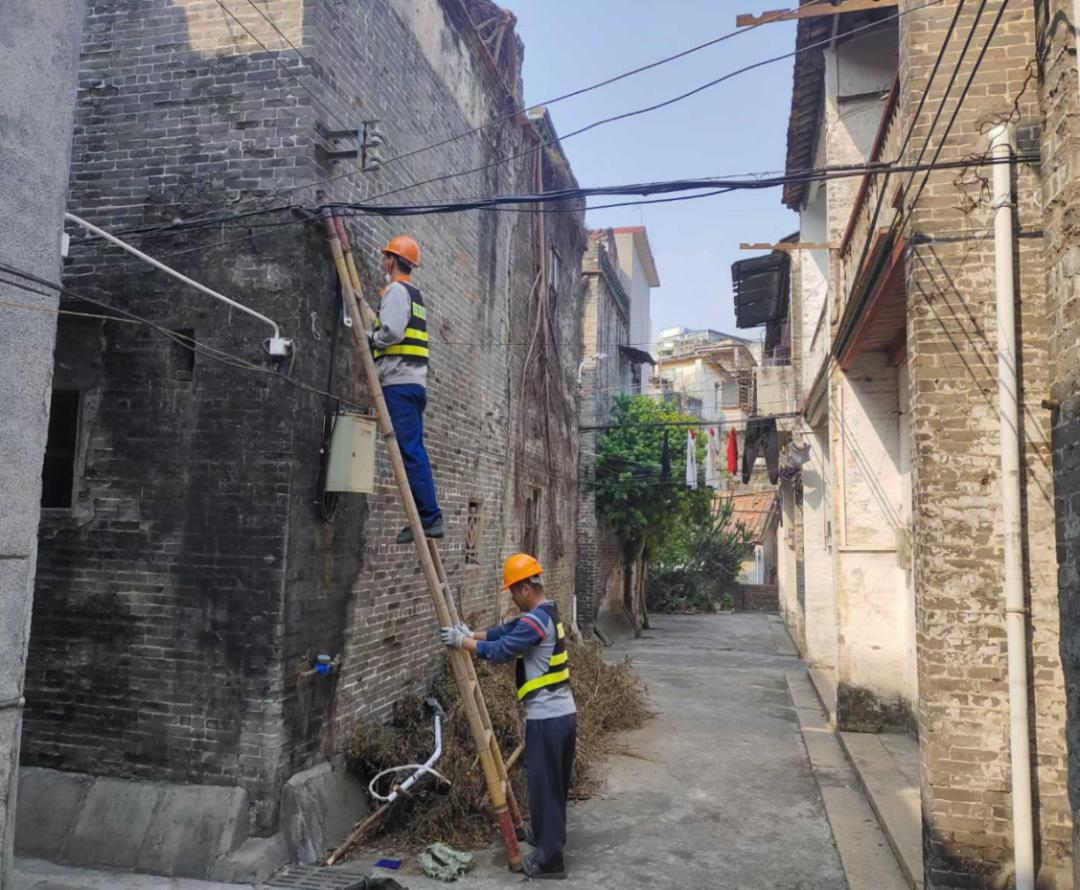未系安全绳的工作人员: (355, 232, 448, 544)
